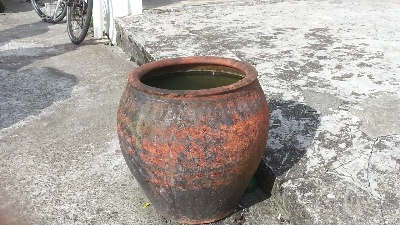bowl: (116, 54, 272, 224)
